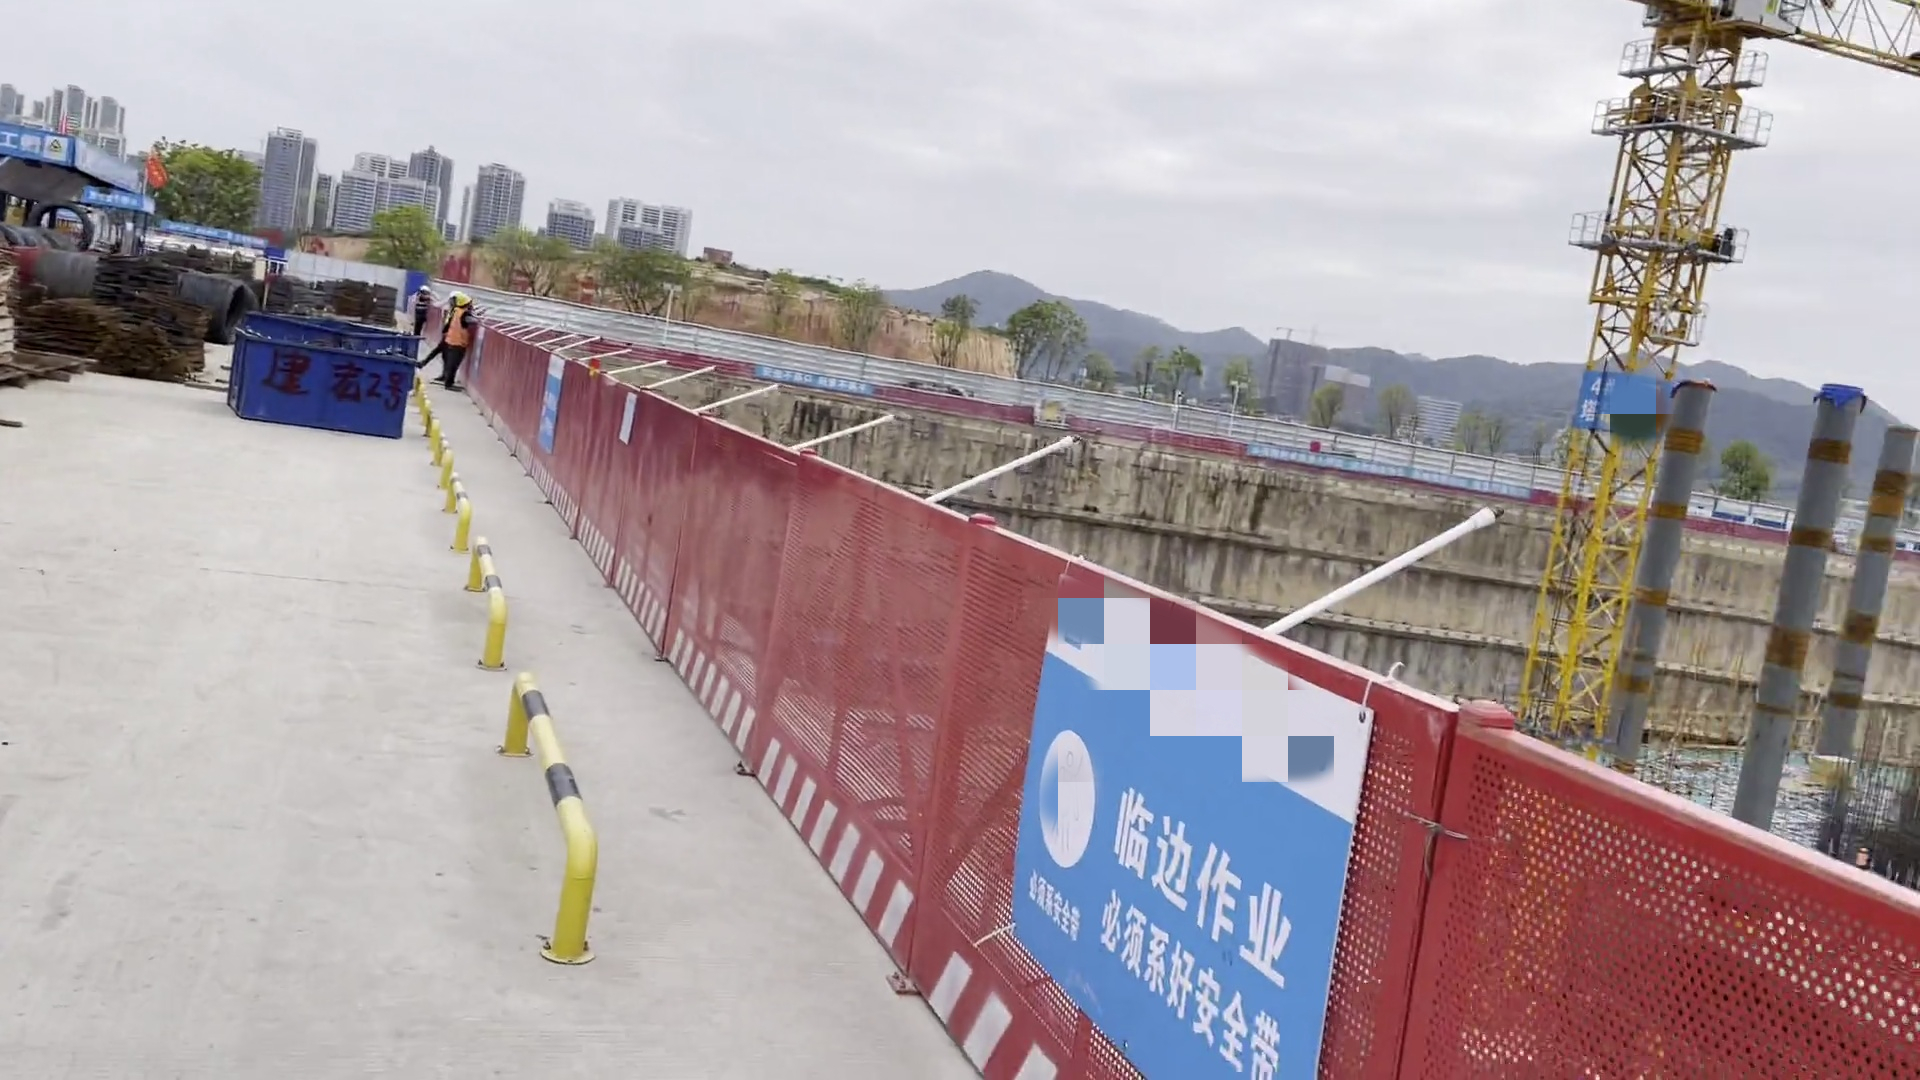fence: (463, 315, 1920, 1070), (556, 332, 1793, 541)
helmet: (455, 294, 471, 308), (419, 285, 430, 293)
hopper: (229, 322, 418, 434)
person: (439, 292, 483, 391), (409, 285, 434, 338)
vest: (445, 307, 469, 354), (413, 294, 427, 320)
